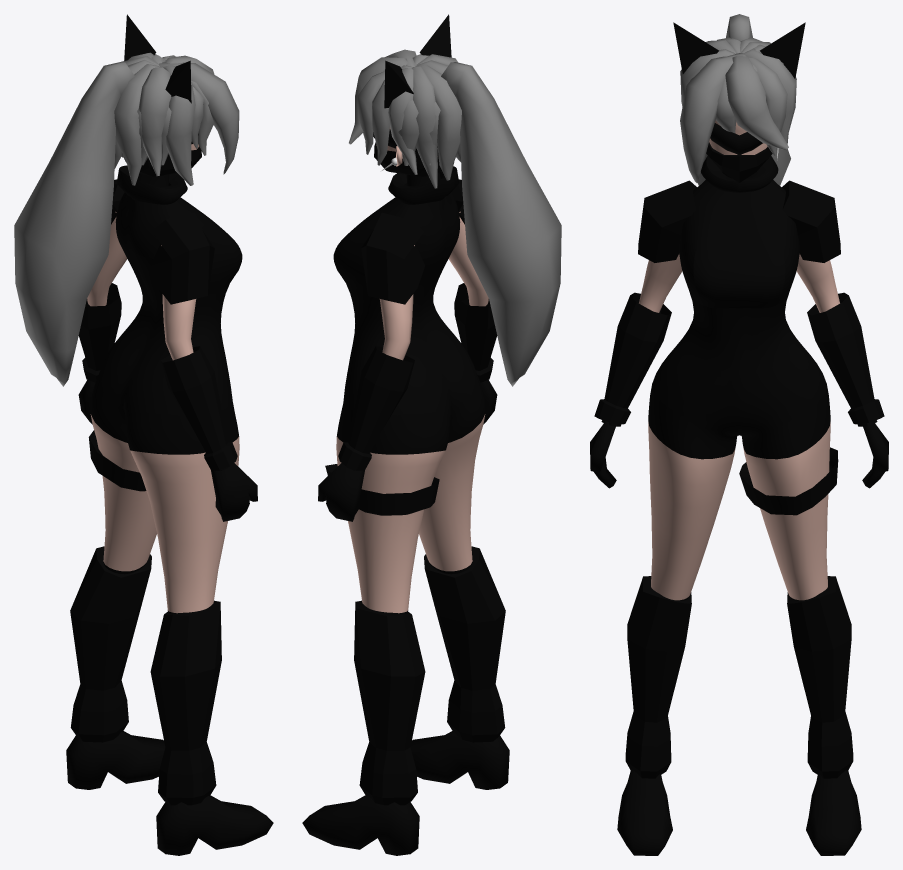
The model's file is mixamo.glb.
3 views of the same model, side by side, from view 1: azimuth 30°, elevation 25°; view 2: azimuth 150°, elevation 25°; view 3: azimuth 270°, elevation 25° (orthographic). The views are drawn at different scales.
Parts seen in each view (by area): view 1: Arm; view 2: Arm; view 3: Arm.
Boxes of the visible parts, x1,y1,x2,y2 form: Arm: (14,14,273,855); Arm: (302,14,561,855); Arm: (590,14,888,855).
Size of the model in its own units: 0.3305 by 1.19 by 0.4008.
